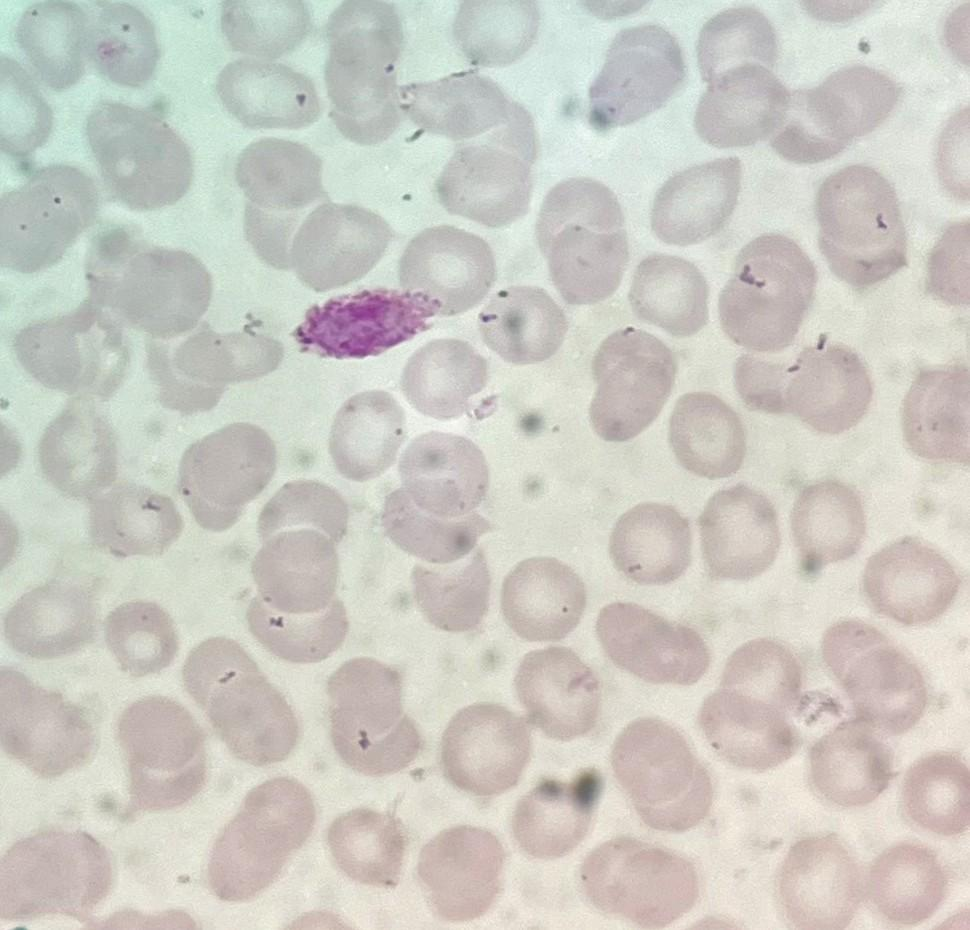Infected: (292, 287, 443, 359)
Uninfected: (206, 776, 317, 903), (768, 63, 903, 163), (190, 651, 302, 769), (818, 622, 929, 738), (604, 716, 713, 831), (85, 103, 197, 212), (811, 163, 910, 286), (322, 654, 422, 774), (322, 3, 407, 141), (532, 179, 628, 300), (112, 694, 211, 811), (719, 232, 818, 349), (400, 70, 533, 156), (97, 243, 215, 338), (580, 836, 700, 929), (175, 421, 278, 529), (0, 665, 94, 779), (1, 167, 98, 275), (586, 23, 685, 127), (585, 328, 675, 440), (0, 826, 108, 919), (594, 603, 711, 686), (287, 202, 391, 293), (775, 339, 872, 435), (431, 138, 532, 229), (14, 306, 117, 394), (394, 429, 491, 522), (249, 525, 345, 617), (413, 825, 505, 921), (382, 482, 486, 566), (36, 400, 124, 499), (397, 225, 495, 313), (859, 536, 957, 623), (510, 645, 601, 738), (648, 158, 741, 248), (694, 63, 789, 151), (440, 703, 531, 794), (700, 691, 803, 771), (776, 835, 866, 926), (4, 575, 98, 662), (246, 589, 350, 666), (694, 486, 779, 580), (215, 58, 319, 134), (807, 717, 897, 804), (711, 636, 803, 721), (668, 389, 747, 483), (325, 806, 410, 893), (232, 136, 328, 213), (146, 331, 237, 412), (787, 480, 866, 573), (502, 557, 587, 643), (89, 483, 182, 561), (607, 502, 693, 586), (860, 841, 946, 925), (400, 335, 489, 415), (476, 284, 566, 363), (327, 391, 408, 478), (255, 476, 347, 552), (509, 775, 594, 857), (898, 364, 968, 463), (626, 252, 709, 335), (409, 552, 492, 634), (15, 2, 95, 87), (84, 3, 163, 87), (101, 598, 182, 675), (695, 7, 777, 79), (180, 327, 285, 383), (242, 195, 316, 274), (898, 751, 969, 831), (451, 1, 537, 65), (220, 0, 310, 60), (84, 227, 148, 305), (732, 350, 801, 416), (924, 218, 970, 308)
